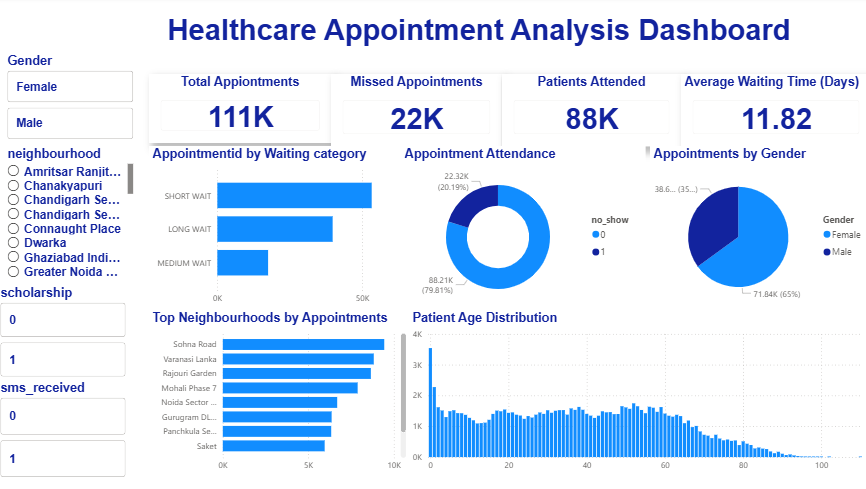

What the dashboard file says about the page in this screenshot:
{"tool":"powerbi","page":{"name":"Page 1","canvas":[1280,720],"ordinal":0},"visuals":[{"type":"cardVisual","title":"Total Appiontments","fields":{"Data":["KaggleV2 234.Total Appointment"]},"box":[221.7,112.5,267.1,100.8],"z":0},{"type":"cardVisual","title":"Missed Appointments","fields":{"Data":["KaggleV2 234.Total NoShow"]},"box":[488.8,112.5,250.3,105.8],"z":1000},{"type":"cardVisual","title":"Patients Attended","fields":{"Data":["KaggleV2 234.Total Attended"]},"box":[739.1,112.5,262,105.8],"z":2000},{"type":"cardVisual","title":"Average Waiting Time (Days)","fields":{"Data":["KaggleV2 234.Avg Waiting Days"]},"box":[1001.2,112.5,278.8,105.8],"z":3000},{"type":"donutChart","title":"Appointment Attendance","fields":{"Y":["CountNonNull(KaggleV2 234.appointmentid)"],"Category":["KaggleV2 234.no_show"]},"box":[591.3,218.4,357.8,245.2],"z":4000},{"type":"pieChart","title":"Appointments by Gender","fields":{"Category":["KaggleV2 234.Gender"],"Y":["CountNonNull(KaggleV2 234.appointmentid)"]},"box":[955.8,218.4,324.2,245.2],"z":5000},{"type":"barChart","title":"Appointmentid by Waiting category","fields":{"Category":["KaggleV2 234.Waiting category"],"Y":["CountNonNull(KaggleV2 234.appointmentid)"]},"box":[221.7,218.4,369.6,240.2],"z":6000},{"type":"barChart","title":"Top Neighbourhoods by Appointments","fields":{"Category":["KaggleV2 234.neighbourhood"],"Y":["CountNonNull(KaggleV2 234.appointmentid)"]},"box":[221.7,458.6,381.3,245.2],"z":7000},{"type":"clusteredColumnChart","title":"Patient Age Distribution","fields":{"Y":["CountNonNull(KaggleV2 234.appointmentid)"],"Category":["KaggleV2 234.age"]},"box":[603,458.6,677,245.2],"z":8000},{"type":"advancedSlicerVisual","fields":{"Values":["KaggleV2 234.Gender"]},"box":[10.1,82.3,194.9,131],"z":9000},{"type":"listSlicer","fields":{"Values":["KaggleV2 234.neighbourhood"]},"box":[10.1,218.4,194.9,203.3],"z":9001},{"type":"advancedSlicerVisual","fields":{"Values":["KaggleV2 234.scholarship"]},"box":[0,421.6,193.2,139.4],"z":9002},{"type":"advancedSlicerVisual","fields":{"Values":["KaggleV2 234.sms_received"]},"box":[0,561,193.2,147.8],"z":9003},{"type":"textbox","box":[193.2,18.5,1024.7,63.8],"z":9004}]}

Visuals, with their boxes in screenshot pixels (x1, y1, x2, y2), scaled from the page's 1280x720 canvas onto the 866x489 screenshot:
"Total Appiontments" cardVisual: bbox=[150, 76, 331, 145]
"Missed Appointments" cardVisual: bbox=[331, 76, 500, 148]
"Patients Attended" cardVisual: bbox=[500, 76, 677, 148]
"Average Waiting Time (Days)" cardVisual: bbox=[677, 76, 865, 148]
"Appointment Attendance" donutChart: bbox=[400, 148, 642, 315]
"Appointments by Gender" pieChart: bbox=[647, 148, 865, 315]
"Appointmentid by Waiting category" barChart: bbox=[150, 148, 400, 311]
"Top Neighbourhoods by Appointments" barChart: bbox=[150, 311, 408, 478]
"Patient Age Distribution" clusteredColumnChart: bbox=[408, 311, 865, 478]
advancedSlicerVisual - KaggleV2 234.Gender: bbox=[7, 56, 139, 145]
listSlicer - KaggleV2 234.neighbourhood: bbox=[7, 148, 139, 286]
advancedSlicerVisual - KaggleV2 234.scholarship: bbox=[0, 286, 131, 381]
advancedSlicerVisual - KaggleV2 234.sms_received: bbox=[0, 381, 131, 481]
textbox: bbox=[131, 13, 824, 56]
